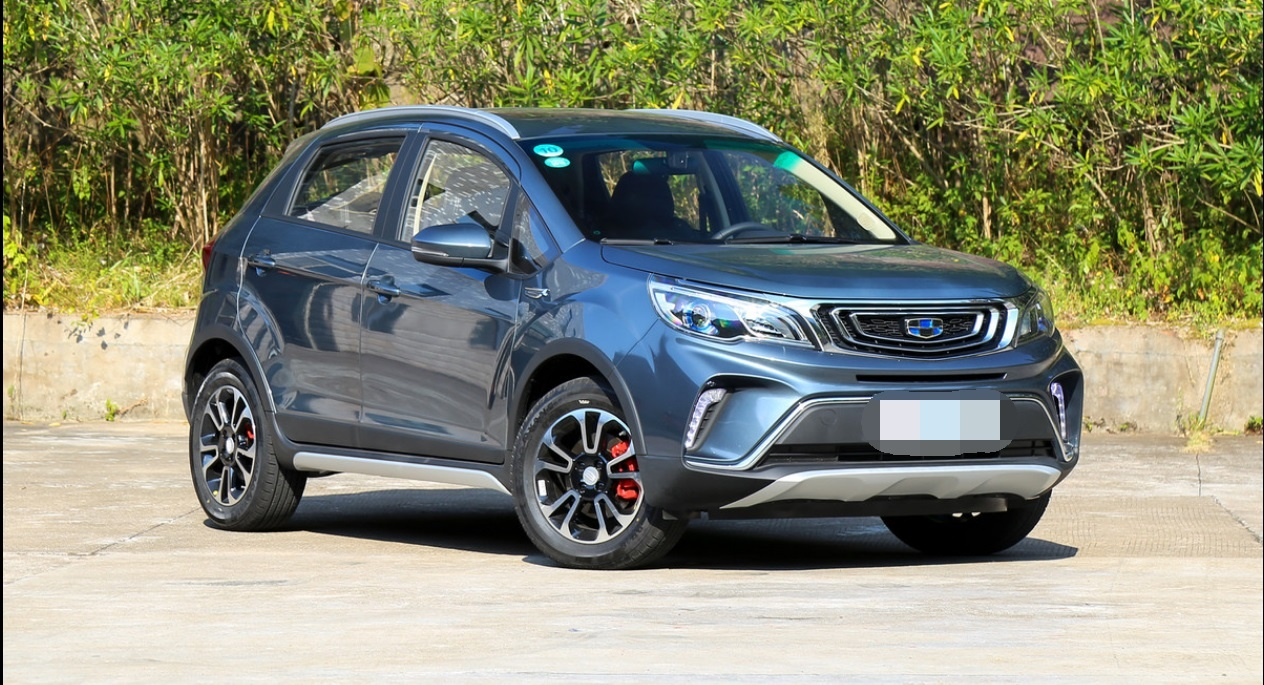SUV: (193, 94, 1105, 577)
